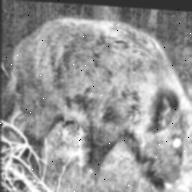boar: (5, 0, 192, 192)
